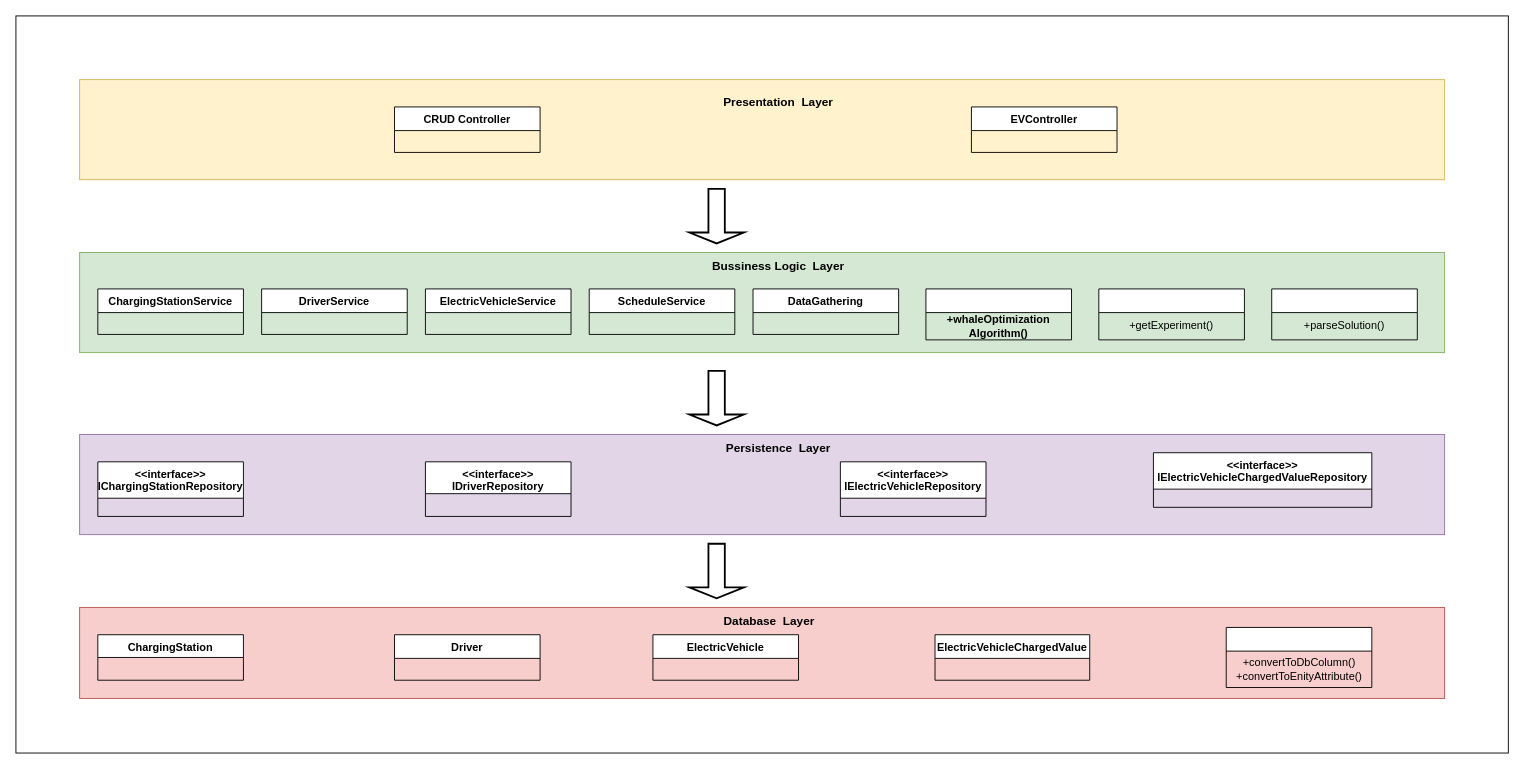
This 1524x769 diagram has some shape labels left out. The box of each missing label's shape, as (x1, y1, x2, y2) in pixels:
EVHelper: (925, 288, 1072, 340)
ExperimentClass: (1098, 288, 1244, 340)
IntegerListConverter: (1225, 627, 1372, 688)
WhaleSolutionParser: (1271, 288, 1417, 340)
